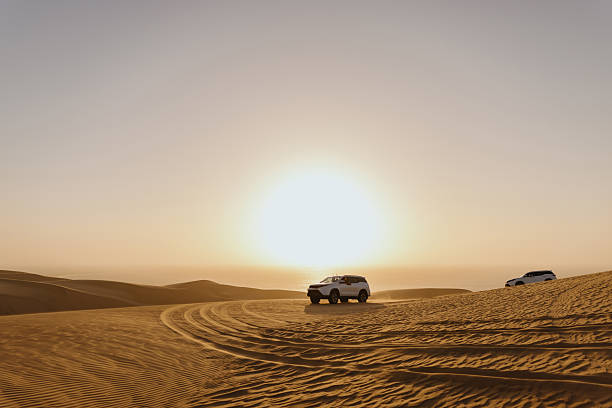vehicle_track: (160, 302, 611, 388)
